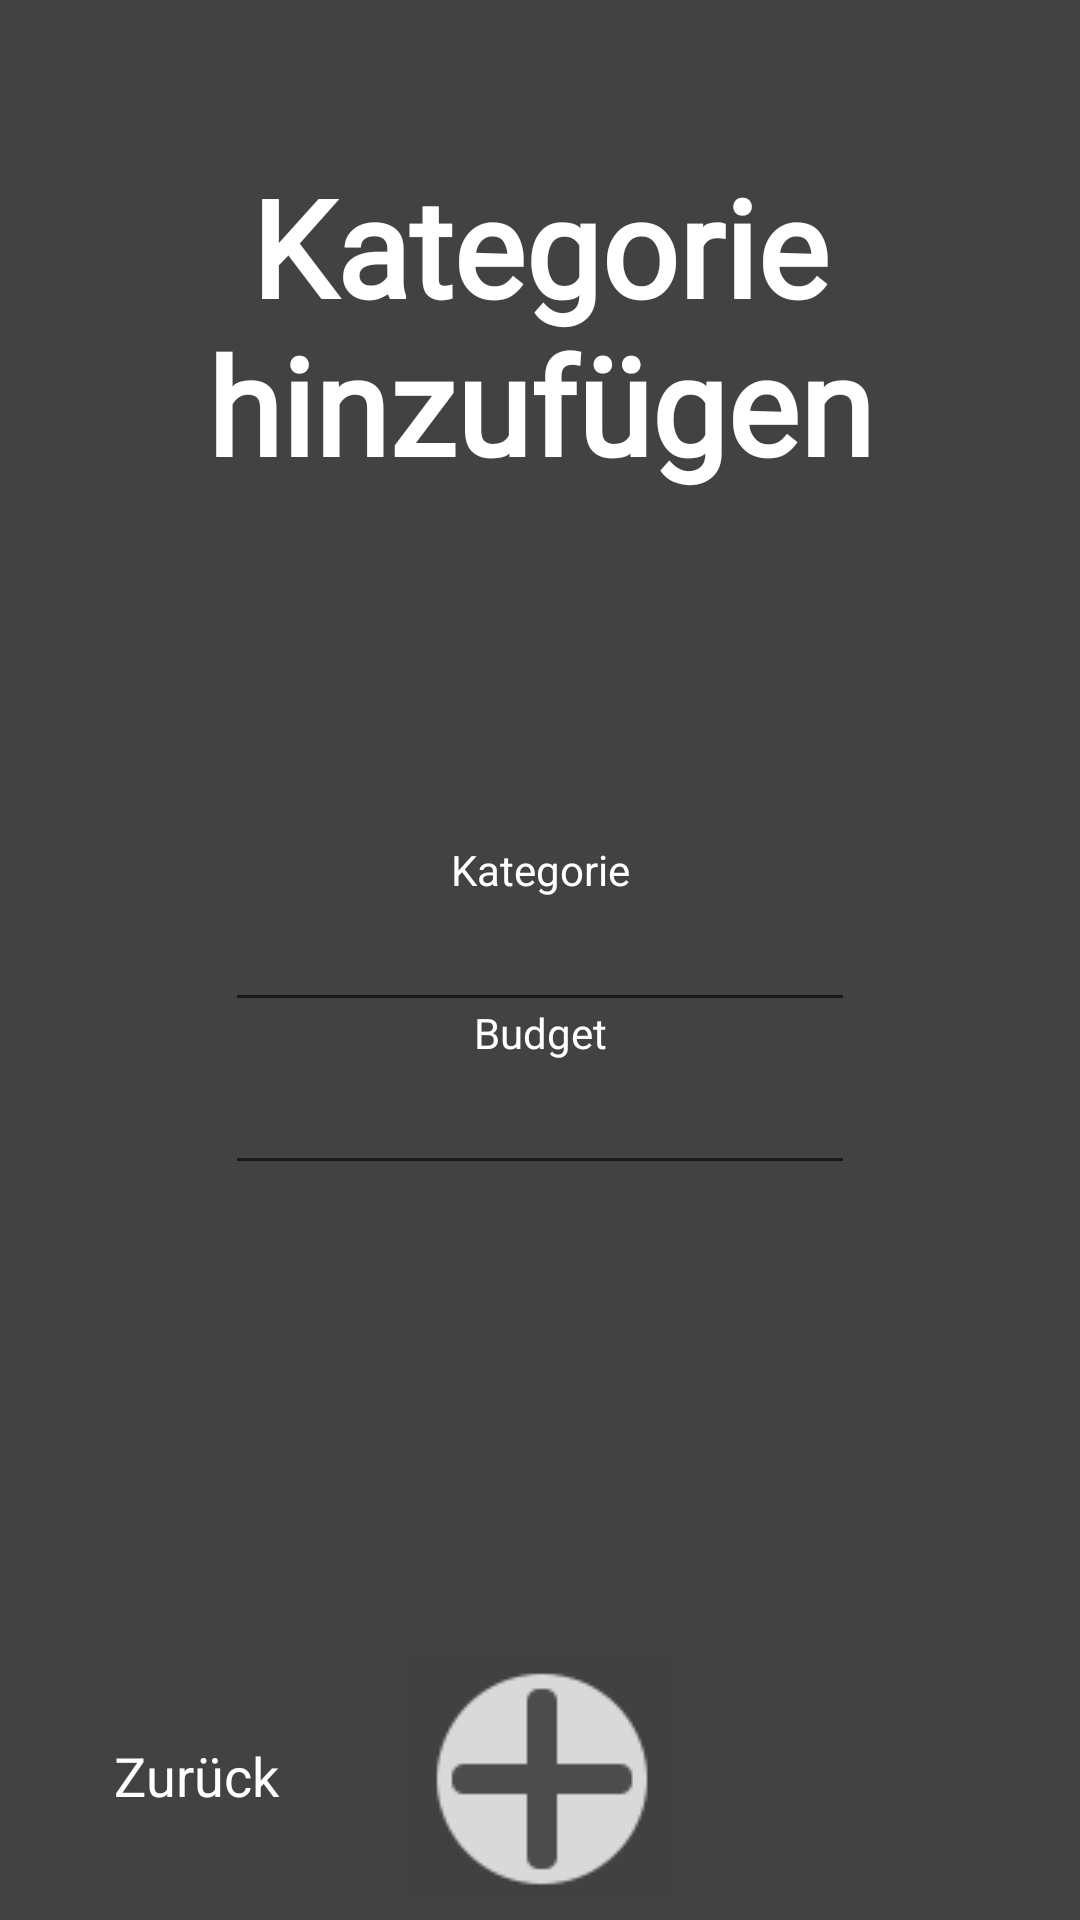

Named icons in this screenshot (1080x1920) and their bounding boxes, bbox=[x1, y1, x2, y2]:
plus: bbox=[436, 1673, 648, 1885]
